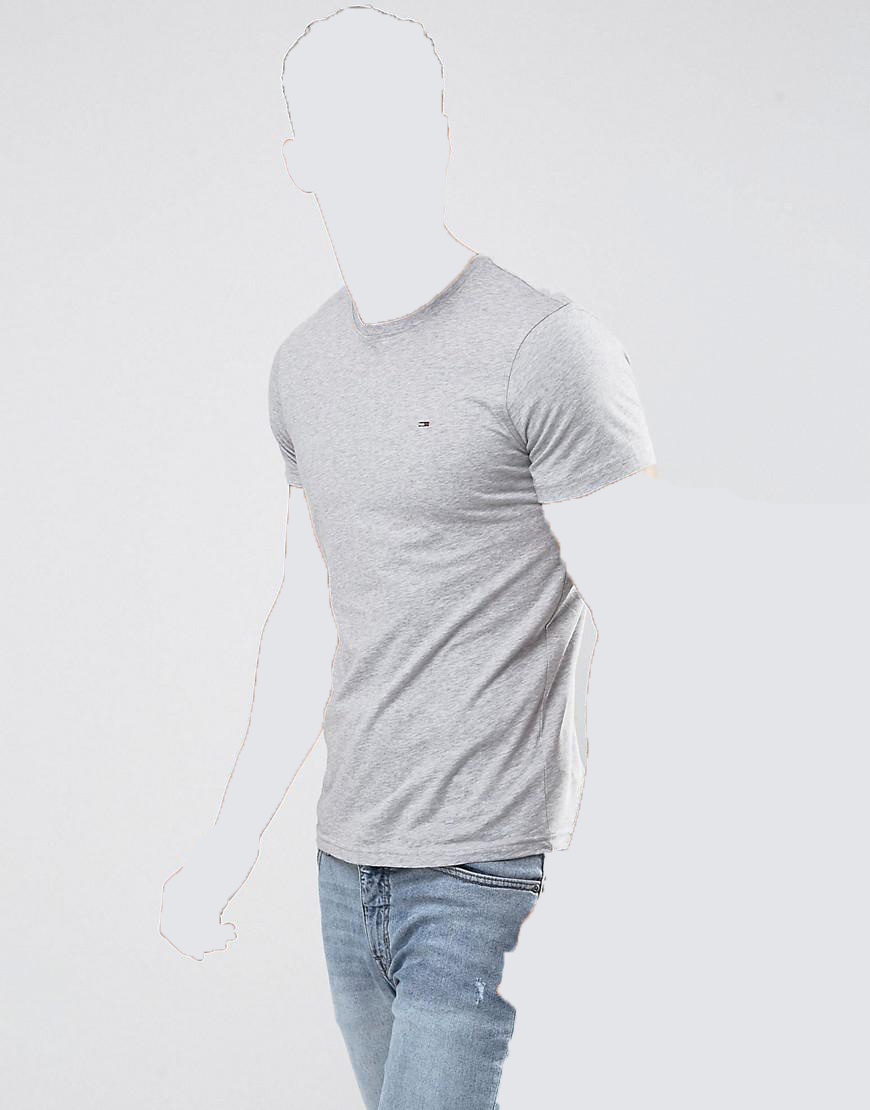teeshirt: (251, 251, 652, 868)
